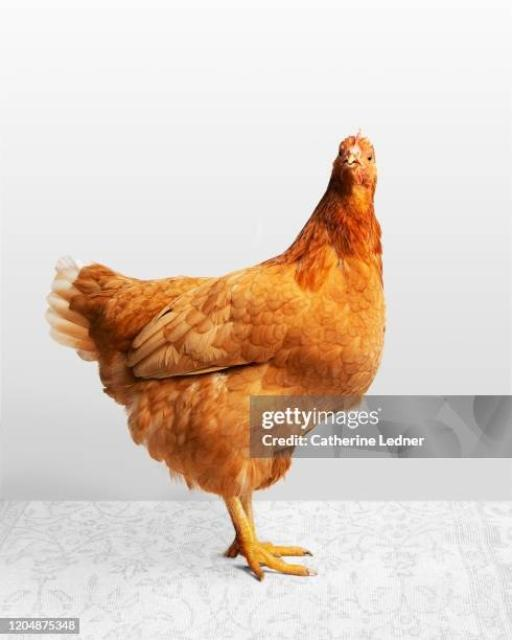Chicken: (46, 124, 388, 582)
